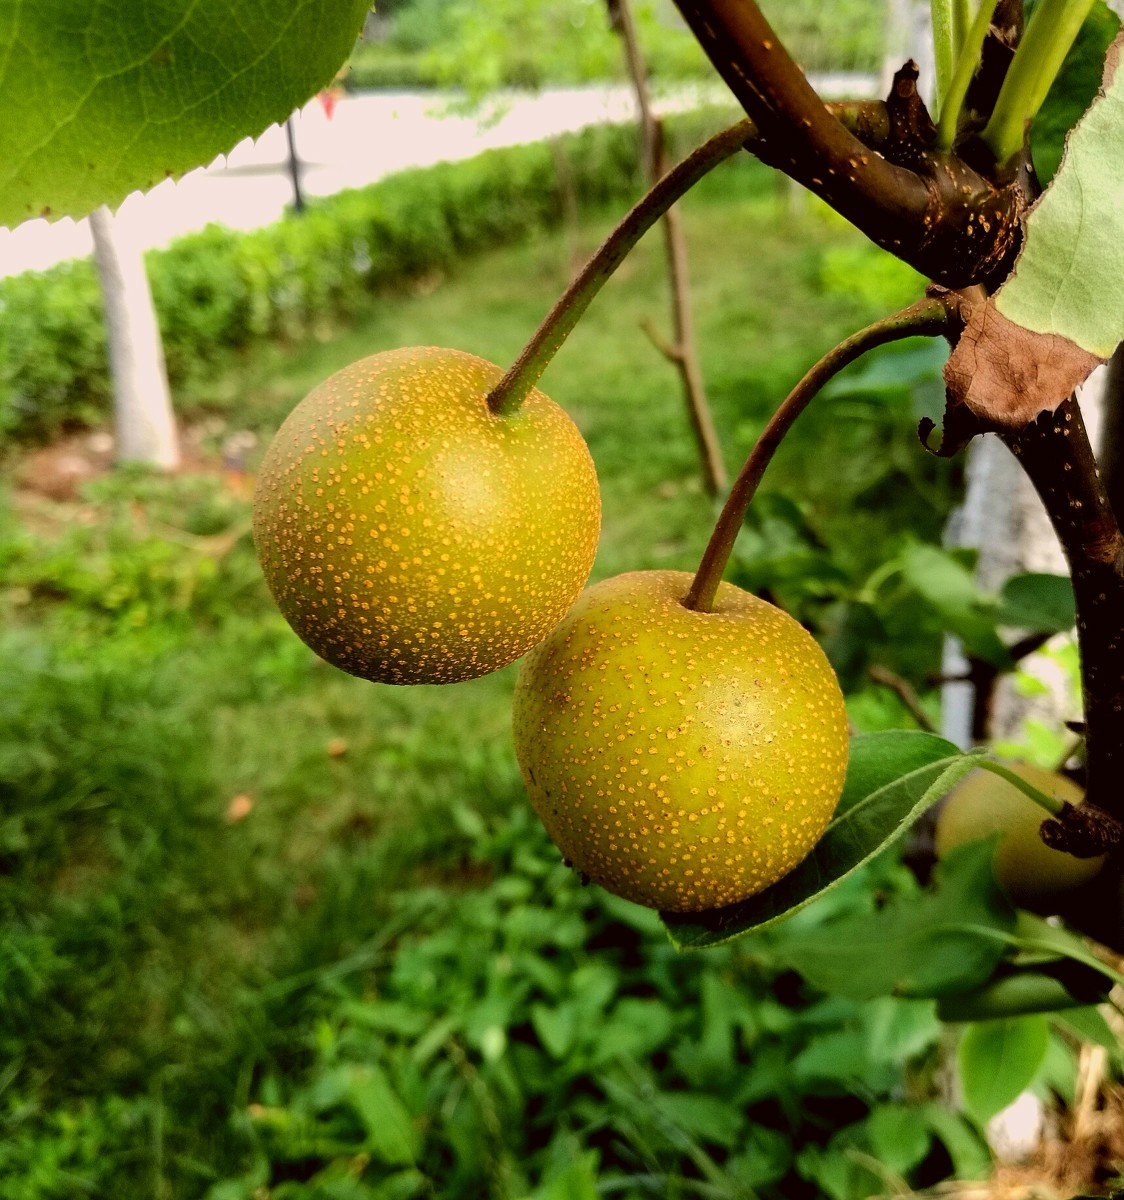pear: (256, 350, 605, 685), (513, 568, 850, 903)
